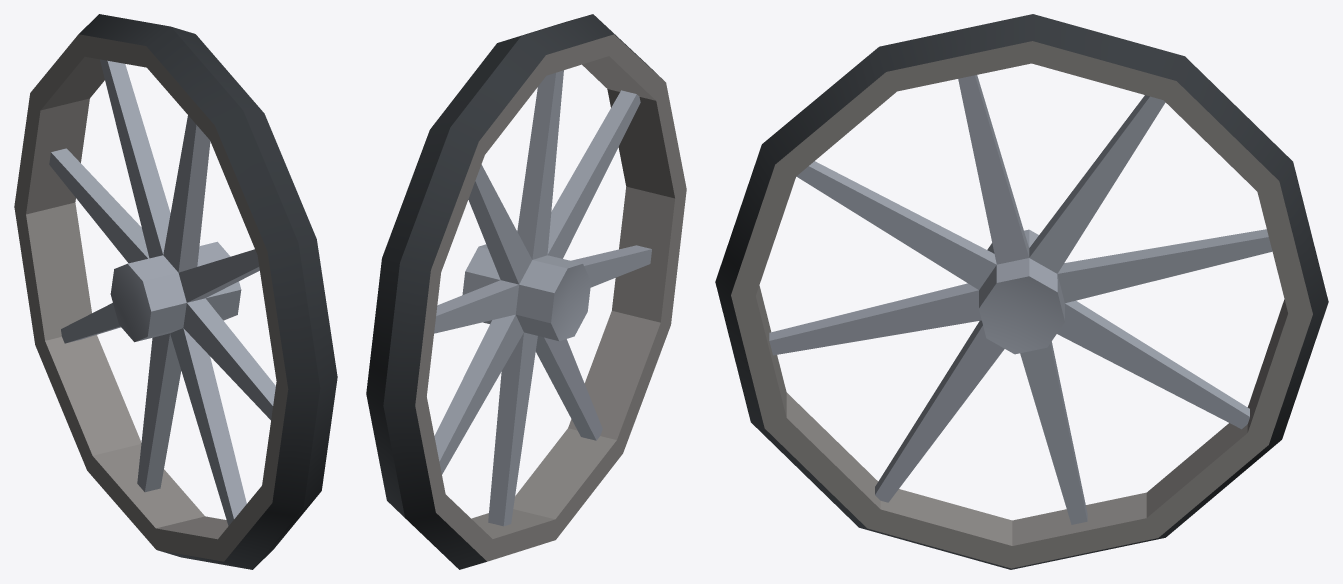
Rendered from SM_Prop_Cart_Tray_Wheel_fr.glb.
3 renders of one model, left to right at view 1: azimuth 30°, elevation 25°; view 2: azimuth 150°, elevation 25°; view 3: azimuth 270°, elevation 25°, orthographic. The views are drawn at different scales.
Parts seen in each view (by area): view 1: SM_Prop_Cart_Tray_Wheel_fr; view 2: SM_Prop_Cart_Tray_Wheel_fr; view 3: SM_Prop_Cart_Tray_Wheel_fr.
Part boxes in pixels (x1=…): SM_Prop_Cart_Tray_Wheel_fr: x1=14, y1=14, x2=337, y2=569; SM_Prop_Cart_Tray_Wheel_fr: x1=366, y1=14, x2=686, y2=569; SM_Prop_Cart_Tray_Wheel_fr: x1=715, y1=14, x2=1328, y2=569.
Bounding box in the file's own units: 0.1061 × 0.5888 × 0.5888.
1 material, 1 textured.
